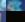anvil: (6, 11, 25, 22)
mirror: (0, 0, 6, 11)
